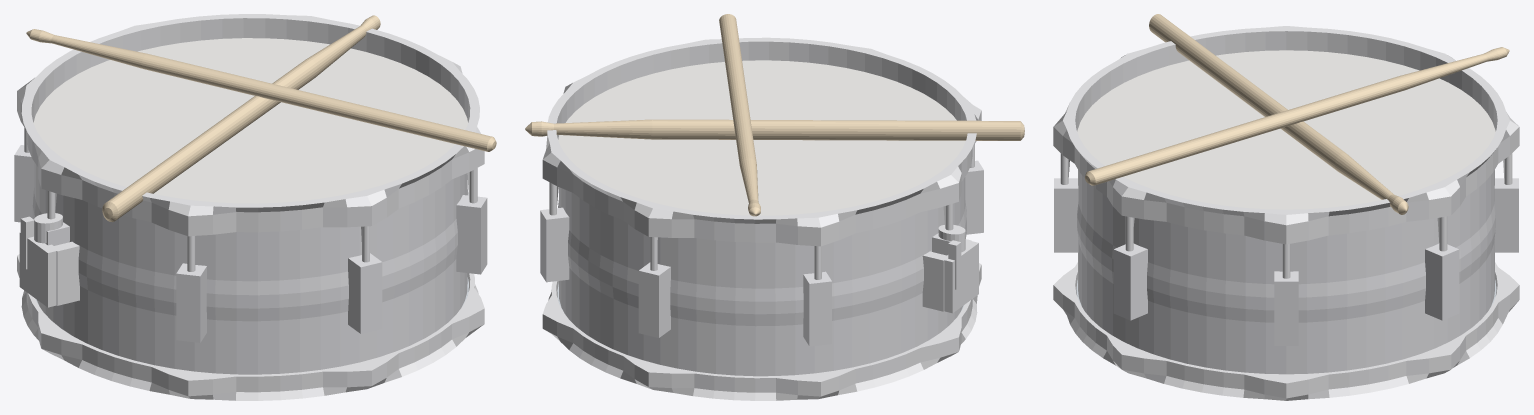
The picture shows the model from 3 angles, left to right: view 1: azimuth 30°, elevation 25°; view 2: azimuth 150°, elevation 25°; view 3: azimuth 270°, elevation 25°; orthographic projection. The views are drawn at different scales.
Visible parts, largest first — view 1: DrumShell, TopHead, TopHoop, BottomHoop, DrumStickSecondary, DrumStickPrimary, SnareStrainer, Lugs_0, Lugs_1, Lugs_7, Lugs_5; view 2: DrumShell, TopHead, TopHoop, BottomHoop, DrumStickPrimary, SnareStrainer, DrumStickSecondary, Lugs_4, Lugs_3, Lugs_5, Lugs_7; view 3: DrumShell, TopHead, TopHoop, BottomHoop, DrumStickSecondary, DrumStickPrimary, Lugs_1, Lugs_3, Lugs_2, Lugs_0, Lugs_4.
Boxes of the visible parts, bbox=[...] form: DrumShell: bbox=[32, 162, 468, 374]; TopHead: bbox=[33, 38, 467, 203]; TopHoop: bbox=[17, 14, 484, 236]; BottomHoop: bbox=[17, 254, 484, 400]; DrumStickSecondary: bbox=[26, 29, 496, 151]; DrumStickPrimary: bbox=[102, 15, 380, 222]; SnareStrainer: bbox=[19, 213, 79, 307]; Lugs_0: bbox=[348, 253, 382, 333]; Lugs_1: bbox=[456, 195, 487, 274]; Lugs_7: bbox=[176, 263, 206, 342]; Lugs_5: bbox=[14, 145, 34, 222]; DrumShell: bbox=[558, 177, 966, 376]; TopHead: bbox=[558, 60, 965, 215]; TopHoop: bbox=[542, 37, 981, 246]; BottomHoop: bbox=[542, 263, 981, 400]; DrumStickPrimary: bbox=[525, 119, 1024, 140]; SnareStrainer: bbox=[922, 225, 978, 313]; DrumStickSecondary: bbox=[719, 14, 760, 216]; Lugs_4: bbox=[638, 262, 670, 337]; Lugs_3: bbox=[540, 207, 569, 282]; Lugs_5: bbox=[803, 271, 831, 346]; Lugs_7: bbox=[965, 160, 983, 234]; DrumShell: bbox=[1077, 170, 1495, 374]; TopHead: bbox=[1077, 50, 1495, 209]; TopHoop: bbox=[1053, 26, 1519, 244]; BottomHoop: bbox=[1053, 262, 1519, 400]; DrumStickSecondary: bbox=[1085, 47, 1509, 185]; DrumStickPrimary: bbox=[1149, 14, 1408, 214]; Lugs_1: bbox=[1113, 243, 1147, 320]; Lugs_3: bbox=[1425, 243, 1459, 320]; Lugs_2: bbox=[1274, 271, 1298, 345]; Lugs_0: bbox=[1054, 178, 1078, 252]; Lugs_4: bbox=[1494, 178, 1518, 252].
Bounding box in the file's own units: 0.4034 × 0.1961 × 0.395.
